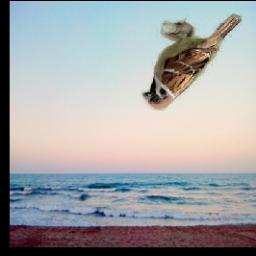Sparrow: (141, 14, 242, 112)
